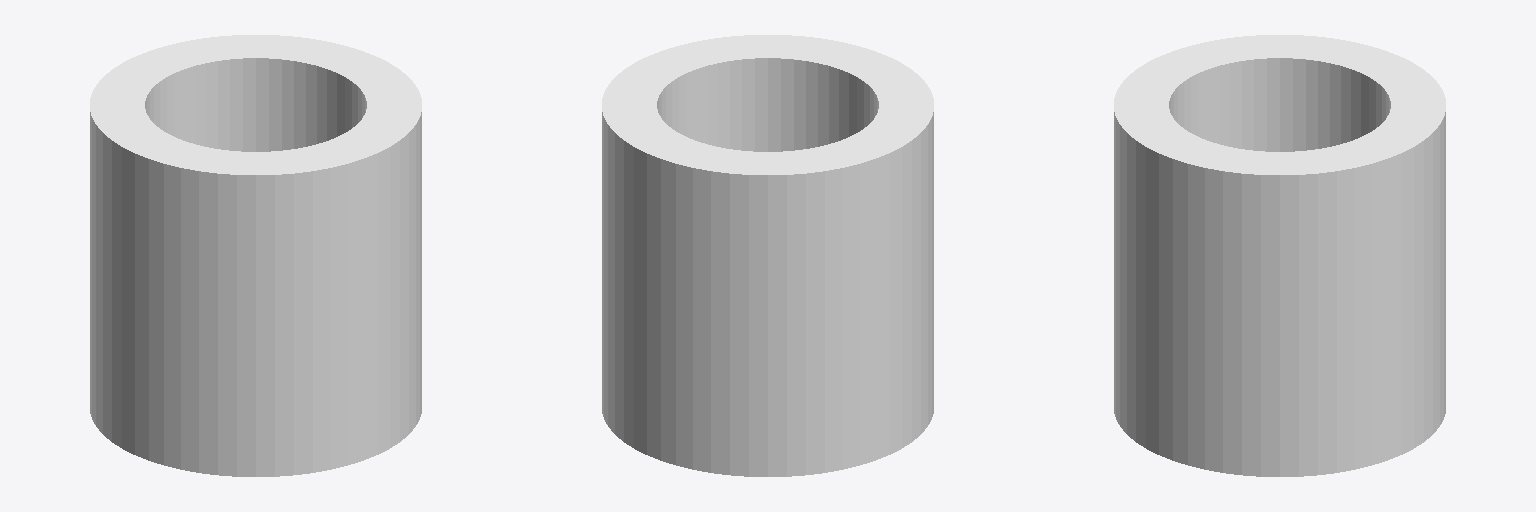
File: Pipe.obj
3 views of the same model, side by side, from view 1: azimuth 30°, elevation 25°; view 2: azimuth 150°, elevation 25°; view 3: azimuth 270°, elevation 25° (orthographic).
Visible parts, largest first — view 1: Pipe; view 2: Pipe; view 3: Pipe.
Part boxes in pixels (left/top/right/bottom): Pipe: left=90, top=35, right=421, bottom=476; Pipe: left=602, top=35, right=933, bottom=476; Pipe: left=1114, top=35, right=1445, bottom=476.
Size of the model in its own units: 30 by 30 by 29.95.